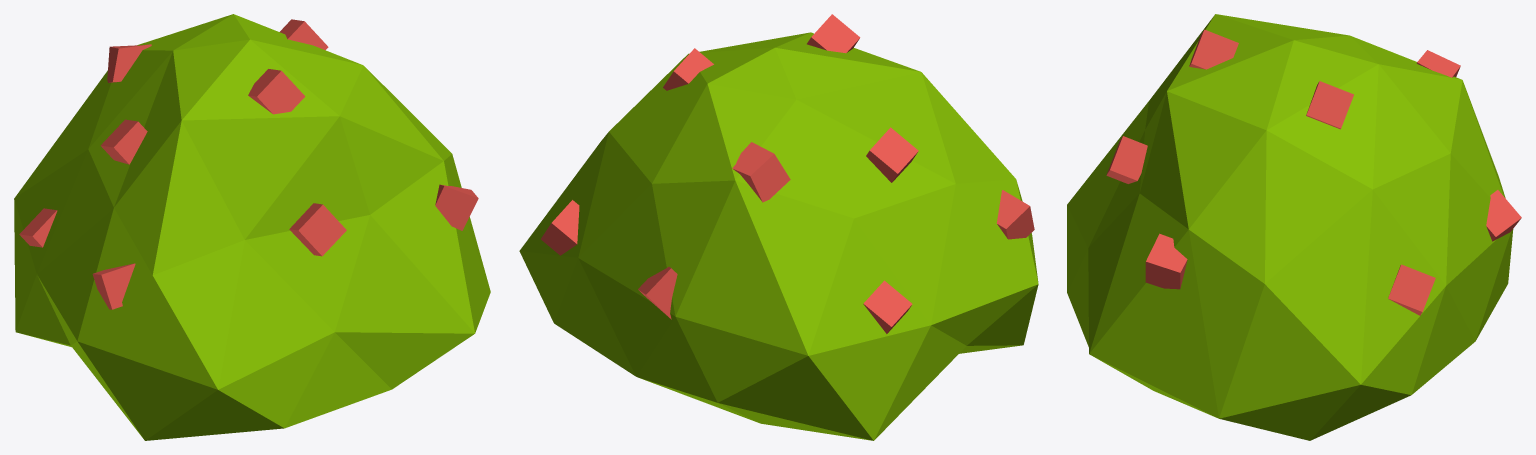
Rendered from Bush_Berries_Red.fbx.
The picture shows the model from 3 angles, left to right: view 1: azimuth 30°, elevation 25°; view 2: azimuth 150°, elevation 25°; view 3: azimuth 270°, elevation 25°; orthographic projection.
Visible parts, largest first — view 1: Bush_Berries_Red; view 2: Bush_Berries_Red; view 3: Bush_Berries_Red.
Boxes of the visible parts, x1,y1,x2,y2 form: Bush_Berries_Red: (14, 14, 490, 440); Bush_Berries_Red: (519, 14, 1038, 440); Bush_Berries_Red: (1067, 14, 1521, 440).
Bounding box in the file's own units: 185 × 131 × 164.
